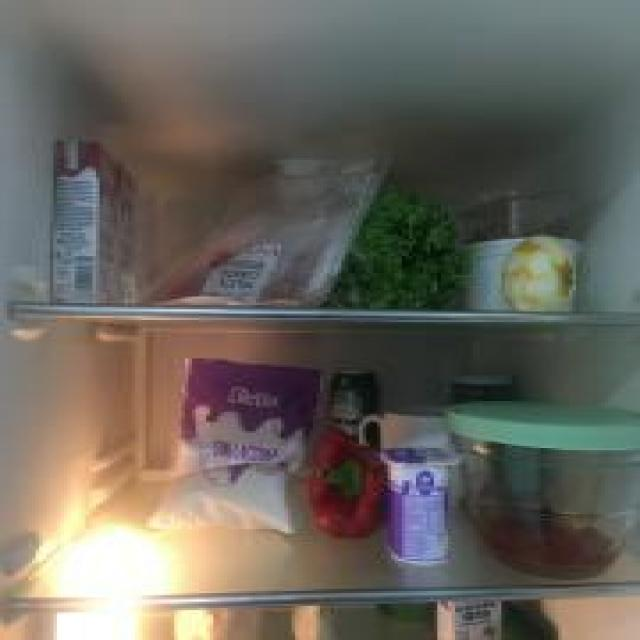bell_pepper: (308, 427, 386, 538)
grated_cheese: (178, 362, 288, 536)
heavy_cream: (53, 138, 139, 306)
salad: (359, 196, 459, 303)
yogurt: (384, 438, 459, 564)
